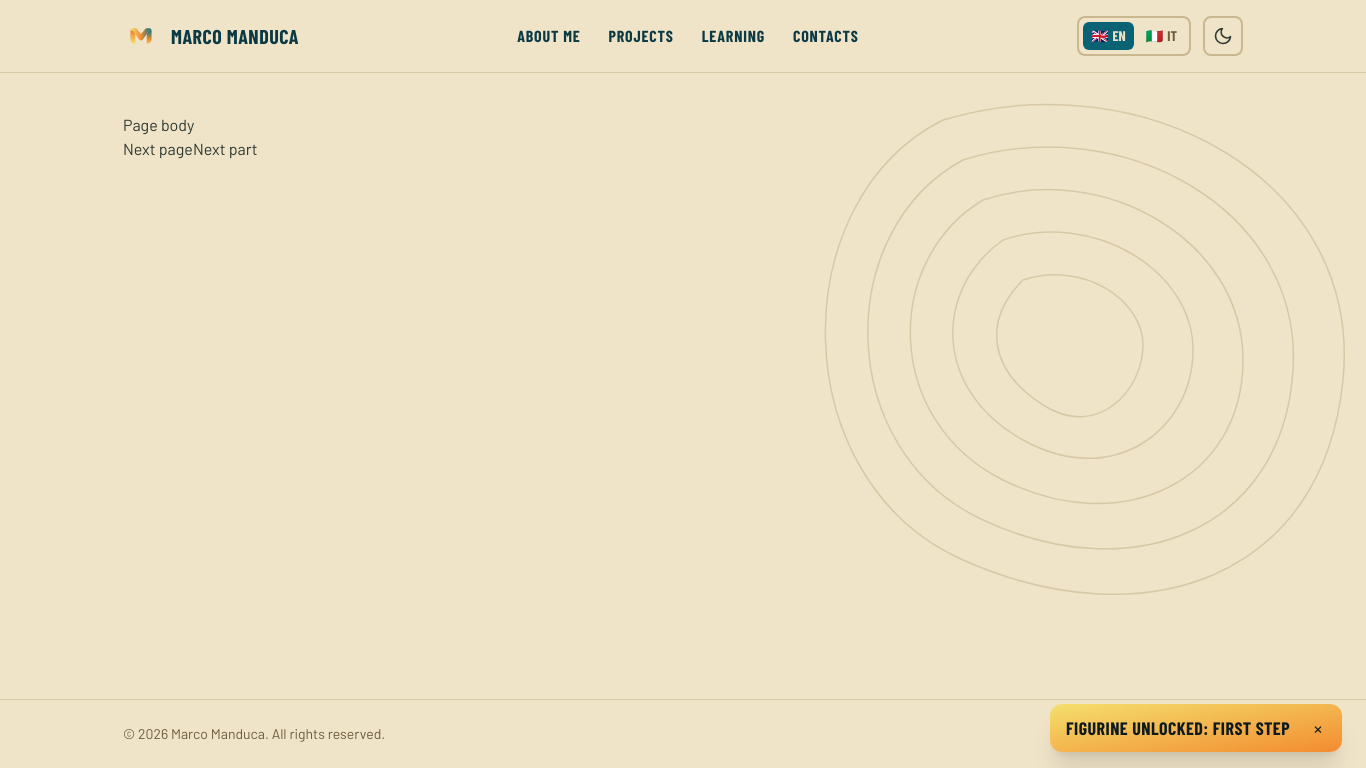
Test: PublicLayout › leaves the focus to the hash target on a hash link
Click the link "Next part".
click(225, 148)  # box [193, 139, 258, 158]
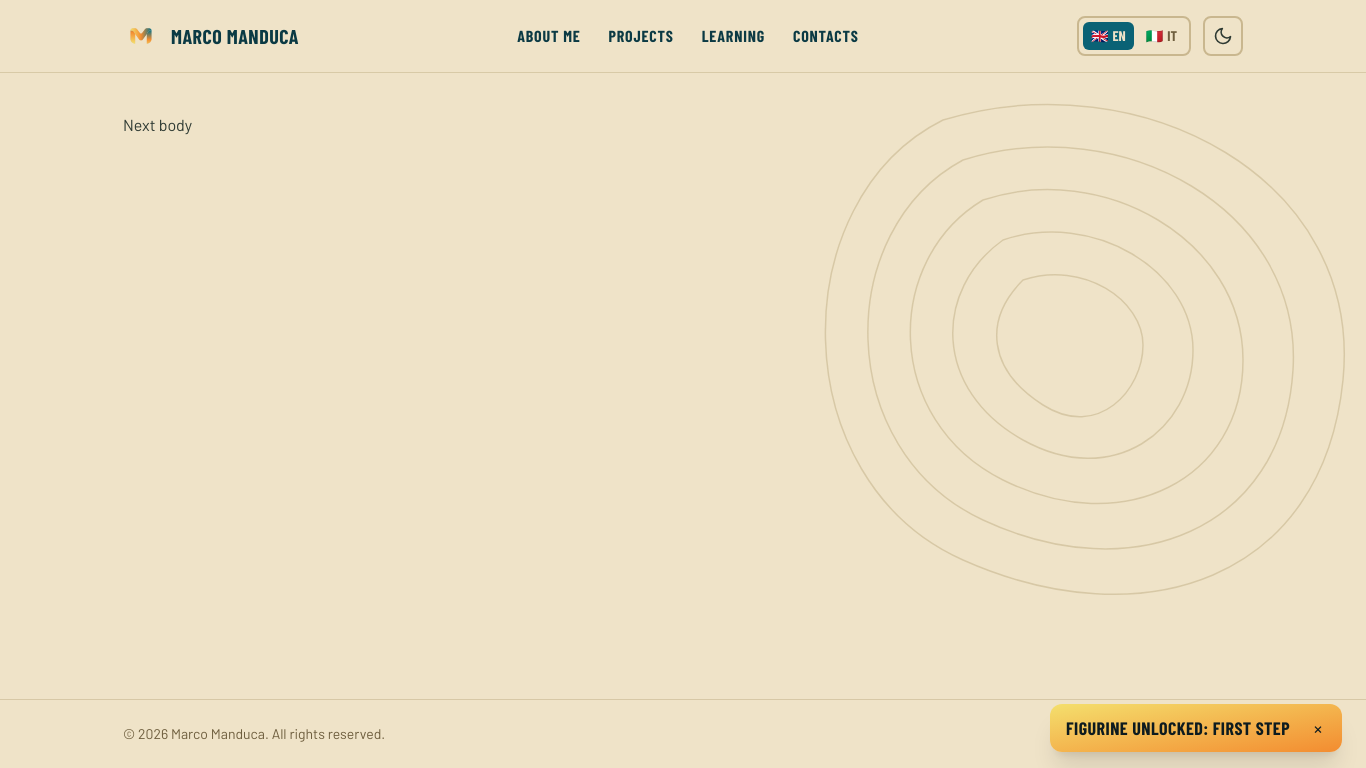
Expected: the text "Next body" is shown, [123, 115, 192, 134]
